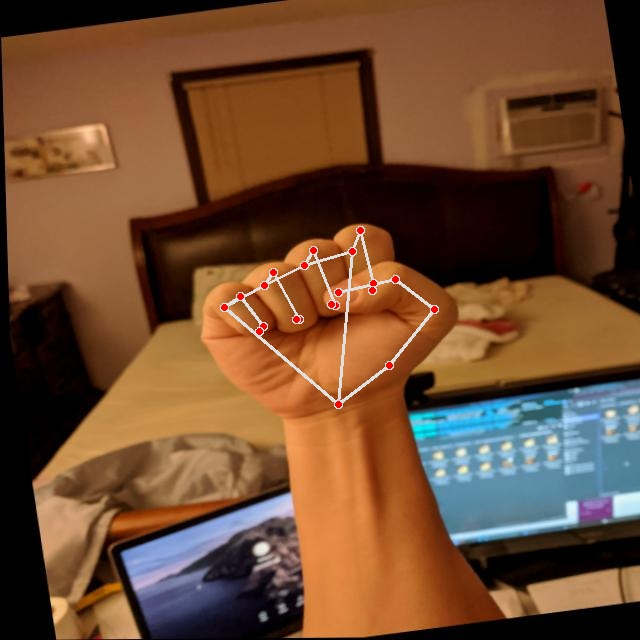S: (177, 209, 472, 427)
